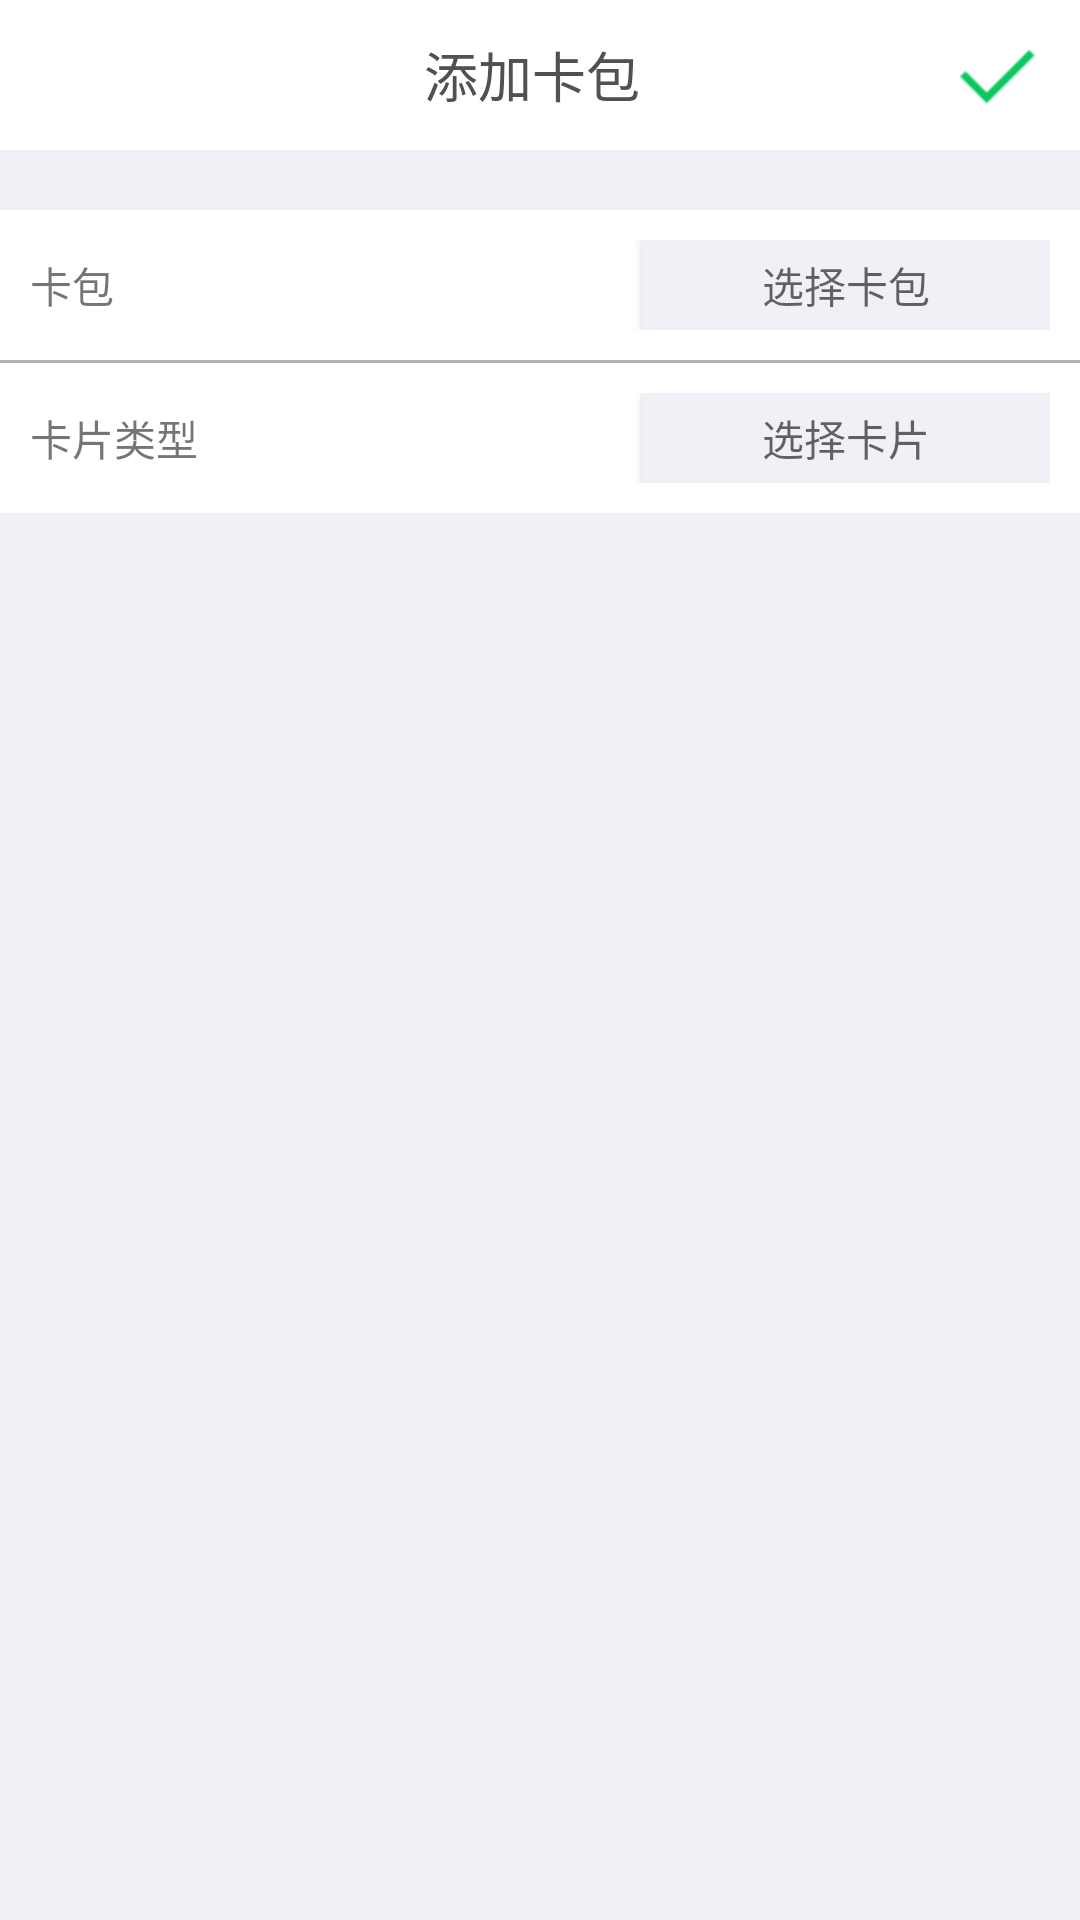

Where icons sit on this 1080*1920 app screen, as (x1, y1, x2, y2):
save right: (960, 50, 1035, 104)
